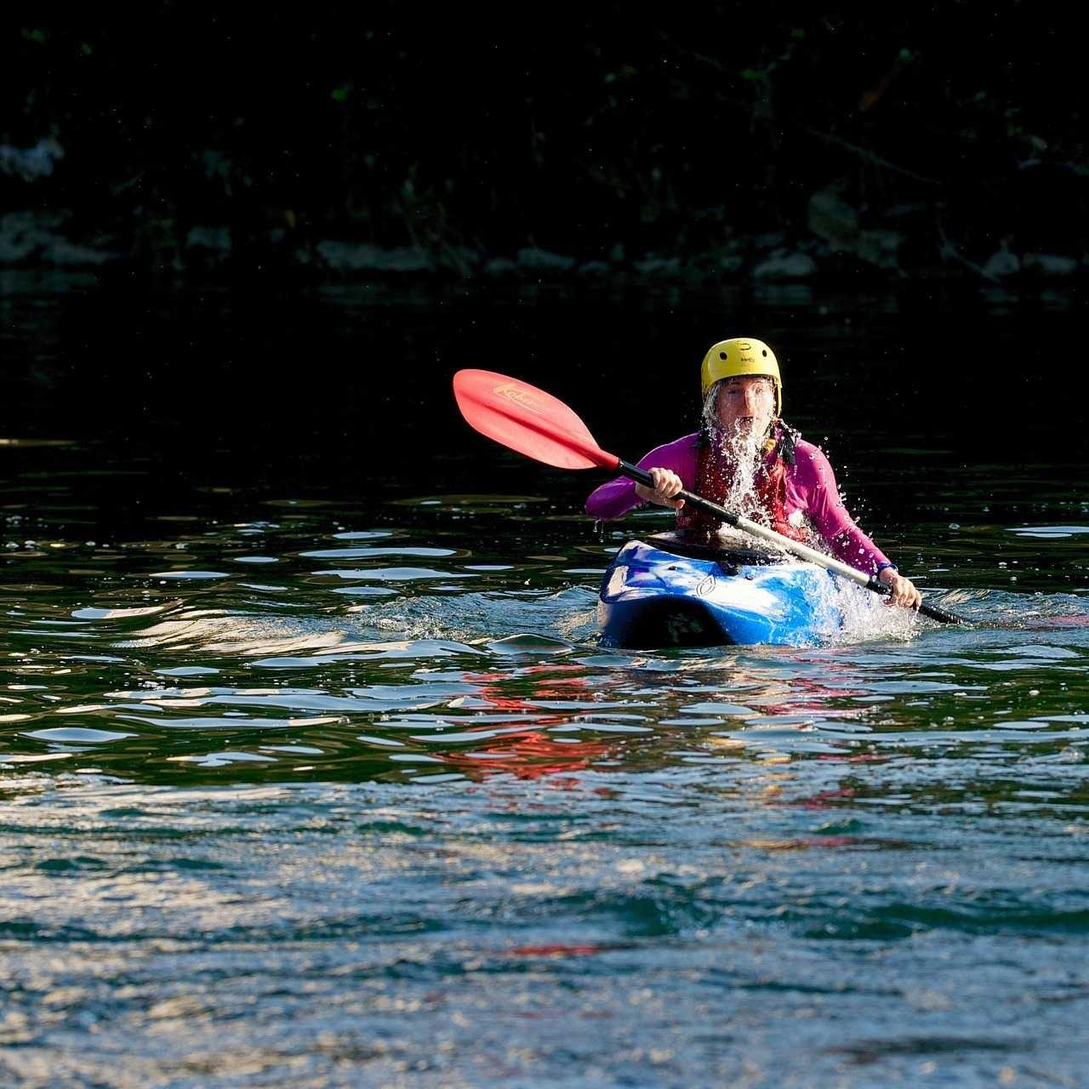kayak: (596, 536, 1085, 650)
